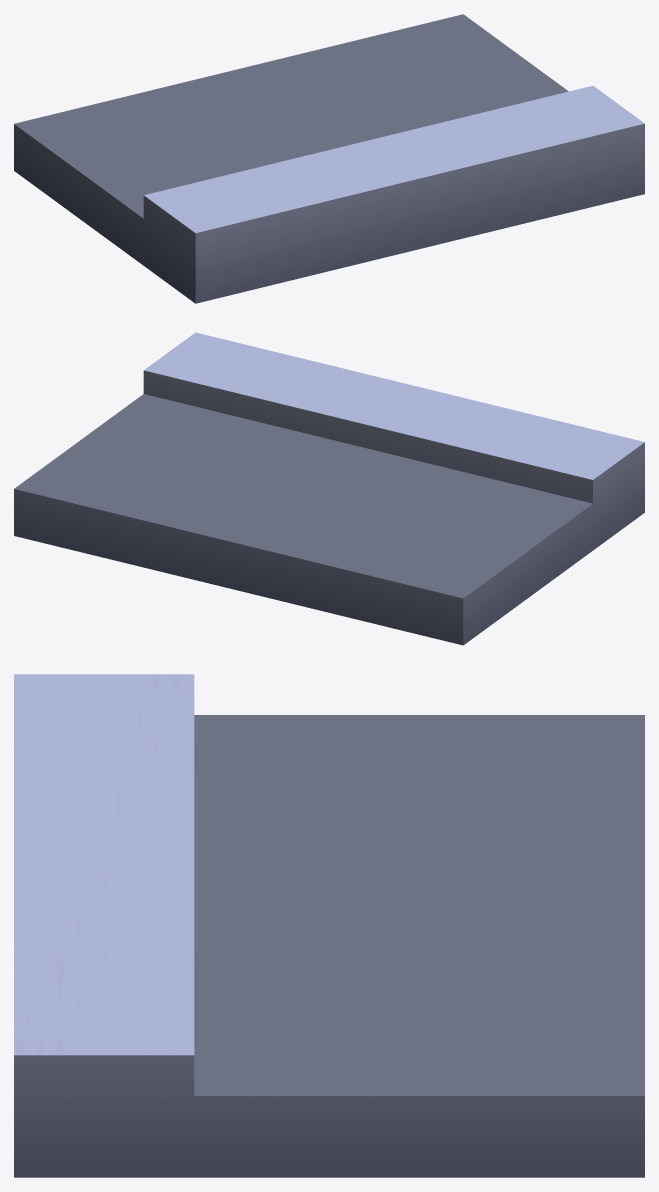
The model's file is balcony-floor-center.glb.
3 views of the same model, one above another, from view 1: azimuth 30°, elevation 25°; view 2: azimuth 150°, elevation 25°; view 3: azimuth 270°, elevation 25° (orthographic). The views are drawn at different scales.
Parts seen in each view (by area): view 1: balcony-floor-center; view 2: balcony-floor-center; view 3: balcony-floor-center.
Part boxes in pixels (x1,y1,x2,y2): balcony-floor-center: (14, 14, 644, 303); balcony-floor-center: (14, 332, 644, 645); balcony-floor-center: (14, 674, 644, 1177).
Size of the model in its own units: 1 by 0.15 by 0.7.
1 material, 1 textured.
